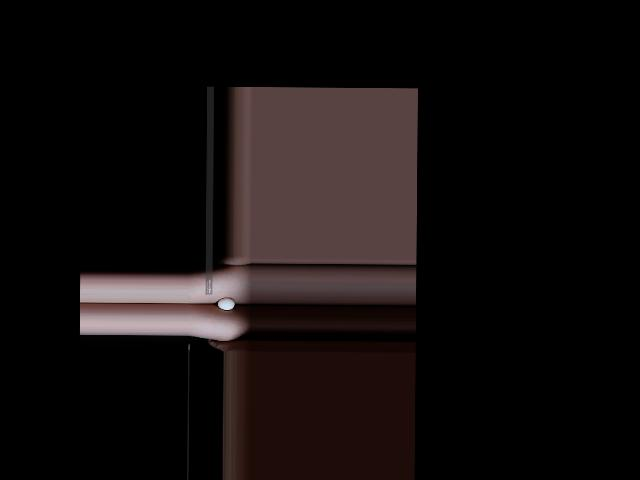egg: (217, 297, 234, 310)
